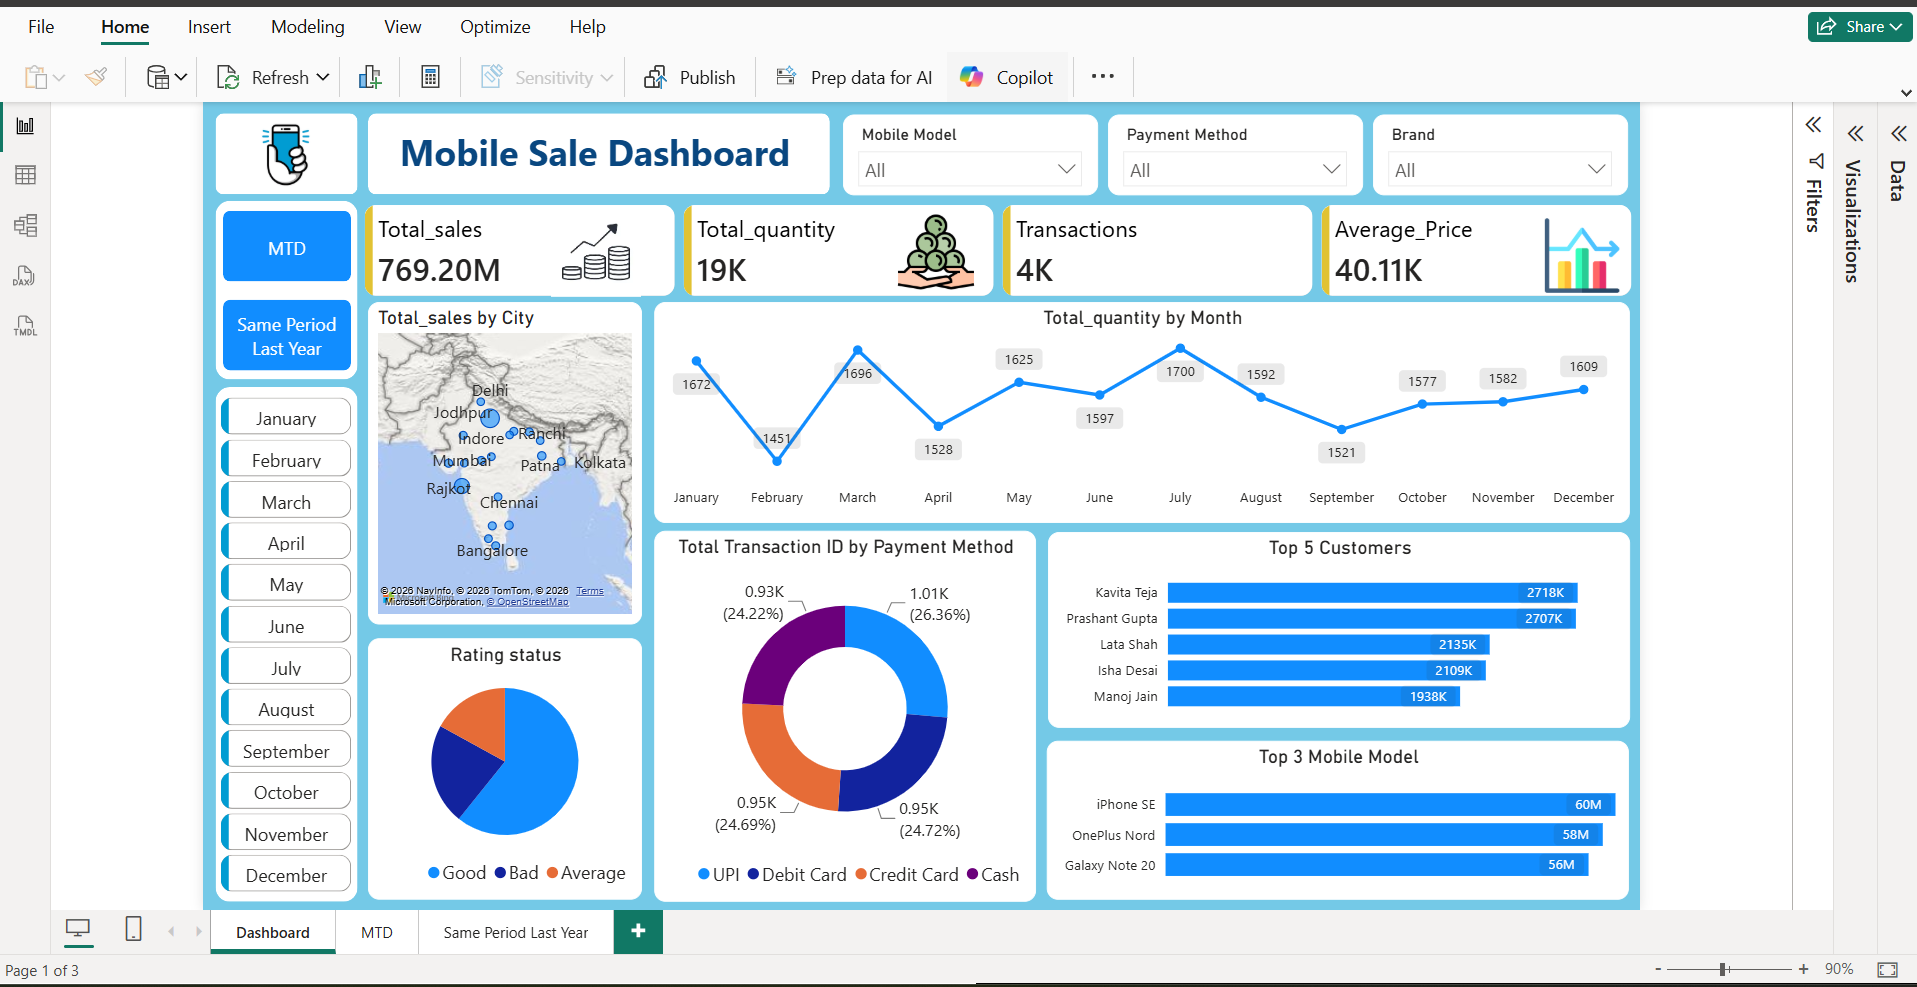

Layout of this report page (visuals, bound fields, positions):
{"tool":"powerbi","page":{"name":"Dashboard","canvas":[1280,720],"ordinal":0},"visuals":[{"type":"shape","box":[10.9,9.7,126.7,72.4],"z":0,"group":"g1"},{"type":"shape","box":[10.9,88.1,126.7,159.3],"z":0},{"type":"image","box":[909.6,101.6,84.5,67.6],"z":0,"group":"g2"},{"type":"image","box":[33.8,10.9,78.4,71.2],"z":1000,"group":"g1"},{"type":"cardVisual","fields":{"Data":["Sales_data.Total_sales","Sales_data.Total_quantity","Sales_data.Transactions","Sales_data.Average_Price"]},"box":[137.1,84.3,1142.9,95.7],"z":1000,"group":"g2"},{"type":"shape","box":[10.9,253.4,126.7,458.4],"z":1000},{"type":"group","id":"g1","title":"Group 1","box":[10.9,9.7,126.7,72.4],"z":2000},{"type":"image","box":[585.7,97.2,134.3,71.4],"z":2000,"group":"g2"},{"type":"image","box":[1188.3,102.8,80.8,66.4],"z":3000,"group":"g2"},{"type":"advancedSlicerVisual","fields":{"Values":["custom_calender.Date.Variation.Date Hierarchy.Month"]},"box":[10.9,258.2,126.7,451.2],"z":3000},{"type":"slicer","fields":{"Values":["Sales_data.Mobile Model"]},"box":[569.4,10.9,226.8,72.4],"z":4000},{"type":"image","box":[277.1,92.9,145.7,80],"z":4000,"group":"g2"},{"type":"shape","box":[147.2,9.7,411.4,72.4],"z":5000},{"type":"slicer","fields":{"Values":["Sales_data.Payment Method"]},"box":[805.9,10.9,226.8,72.4],"z":6000},{"type":"slicer","fields":{"Values":["Sales_data.Brand"]},"box":[1042.4,10.9,226.8,72.4],"z":7000},{"type":"textbox","box":[170,17.5,365,61.2],"z":8000},{"type":"map","fields":{"Category":["Sales_data.City"],"Size":["Sales_data.Total_sales"]},"box":[147.1,178.6,244.3,287.1],"z":9000},{"type":"lineChart","fields":{"Category":["custom_calender.Date.Variation.Date Hierarchy.Month"],"Y":["Sales_data.Total_quantity"]},"box":[401.7,178.6,868.6,196.6],"z":10000},{"type":"pieChart","title":"Rating status","fields":{"Category":["Sales_data.Rating status"],"Y":["CountNonNull(Sales_data.Rating status)"]},"box":[147.1,477.1,244.3,232.9],"z":11000},{"type":"donutChart","title":"Total Transaction ID by Payment Method","fields":{"Category":["Sales_data.Payment Method"],"Y":["CountNonNull(Sales_data.Transaction ID)"]},"box":[401.4,381.4,340,330],"z":12000},{"type":"clusteredBarChart","title":"Top 5 Customers","fields":{"Category":["Sales_data.Customer Name"],"Y":["Sales_data.Total_sales"]},"box":[752,382.8,518.7,174.3],"z":13000},{"type":"clusteredBarChart","title":"Top 3 Mobile Model","fields":{"Category":["Sales_data.Mobile Model"],"Y":["Sales_data.Total_sales"]},"box":[751.4,568.6,518.6,141.4],"z":14000},{"type":"group","id":"g2","title":"Group 2","box":[137.1,84.3,1142.9,95.7],"z":15000},{"type":"pageNavigator","box":[18.1,96.5,114.6,142.4],"z":15001}]}

Visuals, with their boxes on the page's 1280x720 design canvas (x1, y1, x2, y2). These are canvas units, not pixel positions in the 1917x987 screenshot, which may show the page scaled, cropped or inside an application window:
shape: [11,10,138,82]
shape: [11,88,138,247]
image: [910,102,994,169]
image: [34,11,112,82]
cardVisual - Sales_data.Total_sales x Sales_data.Total_quantity: [137,84,1280,180]
shape: [11,253,138,712]
"Group 1" group: [11,10,138,82]
image: [586,97,720,169]
image: [1188,103,1269,169]
advancedSlicerVisual - custom_calender.Date.Variation.Date Hierarchy.Month: [11,258,138,709]
slicer - Sales_data.Mobile Model: [569,11,796,83]
image: [277,93,423,173]
shape: [147,10,559,82]
slicer - Sales_data.Payment Method: [806,11,1033,83]
slicer - Sales_data.Brand: [1042,11,1269,83]
textbox: [170,18,535,79]
map - Sales_data.City x Sales_data.Total_sales: [147,179,391,466]
lineChart - custom_calender.Date.Variation.Date Hierarchy.Month x Sales_data.Total_quantity: [402,179,1270,375]
"Rating status" pieChart: [147,477,391,710]
"Total Transaction ID by Payment Method" donutChart: [401,381,741,711]
"Top 5 Customers" clusteredBarChart: [752,383,1271,557]
"Top 3 Mobile Model" clusteredBarChart: [751,569,1270,710]
"Group 2" group: [137,84,1280,180]
pageNavigator: [18,96,133,239]
